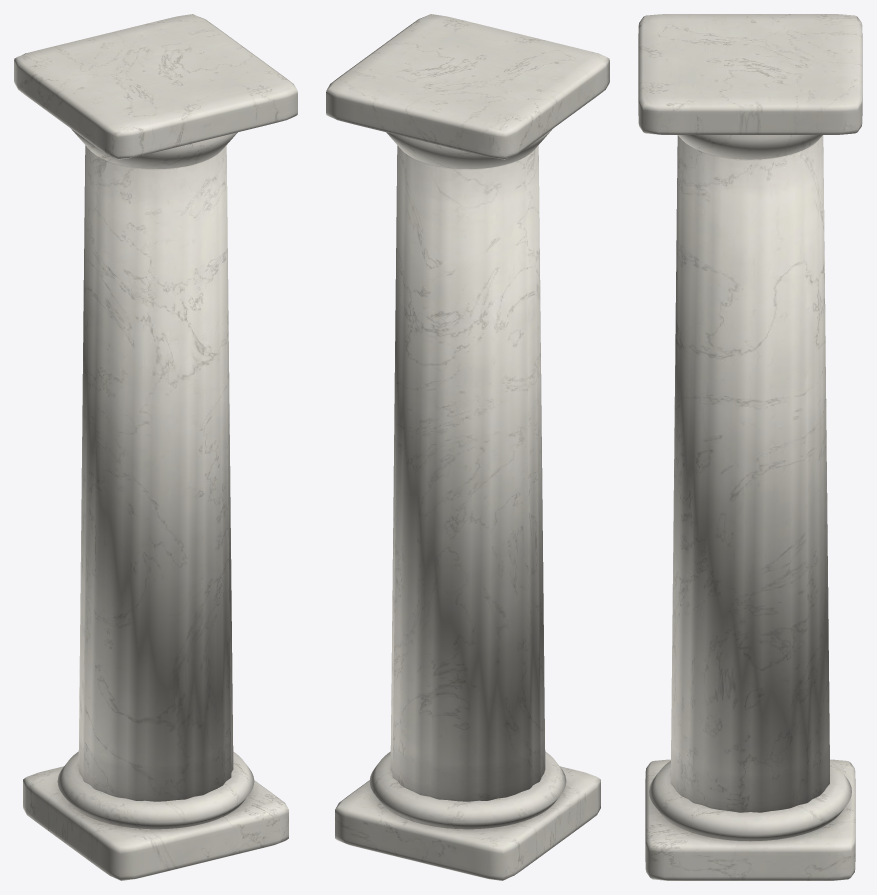
Rendered from doric-marble.glb.
3 views of the same model, side by side, from view 1: azimuth 30°, elevation 25°; view 2: azimuth 150°, elevation 25°; view 3: azimuth 270°, elevation 25° (orthographic). The views are drawn at different scales.
Visible parts, largest first — view 1: marble_column; view 2: marble_column; view 3: marble_column.
Boxes of the visible parts, bbox=[...] form: marble_column: bbox=[14, 14, 297, 880]; marble_column: bbox=[326, 14, 609, 880]; marble_column: bbox=[638, 14, 862, 880].
Bounding box in the file's own units: 0.64 × 2.46 × 0.64.
1 material, 1 textured.
